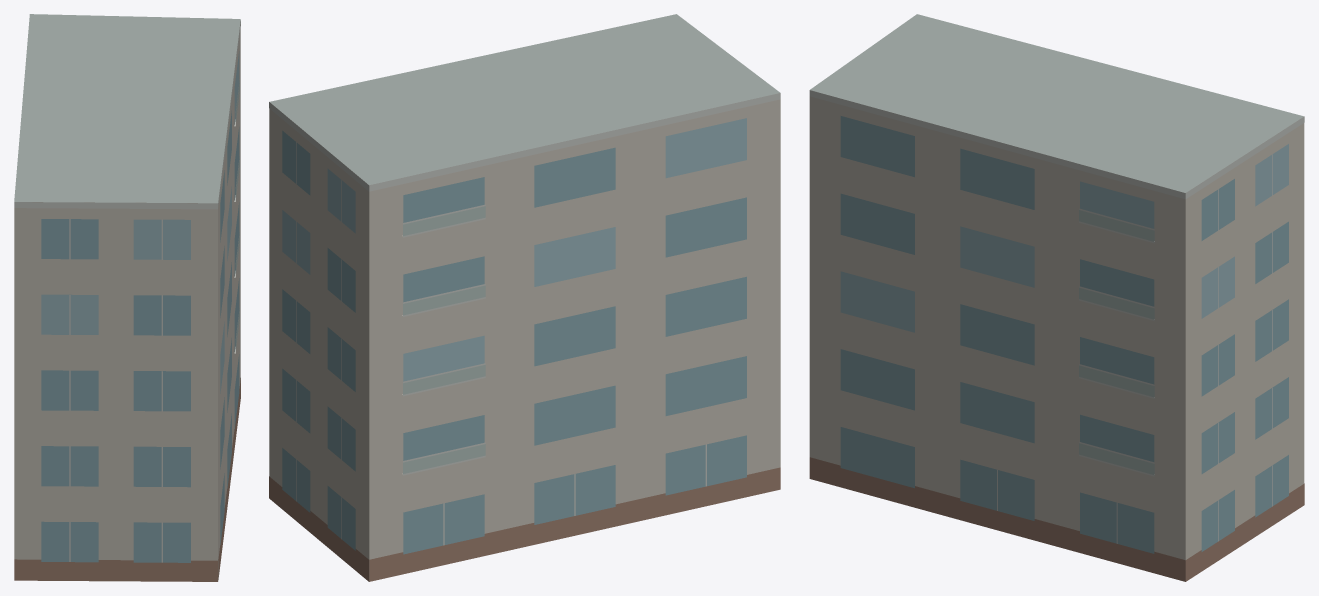
File: survey-upis-32967341.glb
3 views of the same model, side by side, from view 1: azimuth 30°, elevation 25°; view 2: azimuth 150°, elevation 25°; view 3: azimuth 270°, elevation 25° (orthographic). The views are drawn at different scales.
Parts seen in each view (by area): view 1: survey-upis-32967341.tmp; view 2: survey-upis-32967341.tmp; view 3: survey-upis-32967341.tmp.
Boxes of the visible parts, x1,y1,x2,y2 form: survey-upis-32967341.tmp: (14, 14, 240, 581); survey-upis-32967341.tmp: (269, 14, 780, 581); survey-upis-32967341.tmp: (809, 14, 1304, 581).
Size of the model in its own units: 14.88 by 15.05 by 17.37.
